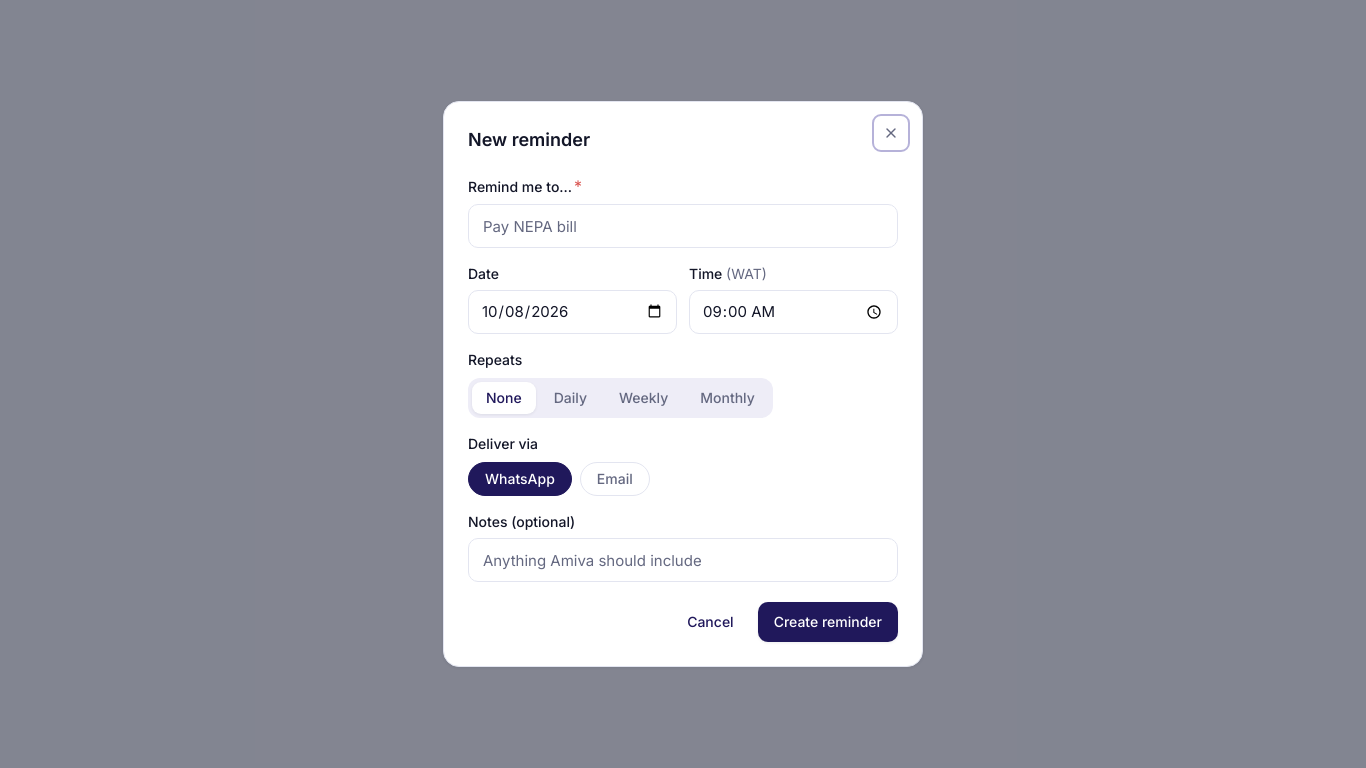
Test: ReminderModal — create › requires at least one delivery channel
This screenshot has width=1366, height=768.
Type "Call Ada" into the field labelled "Remind me to…" at (683, 226), box [468,204,898,248]
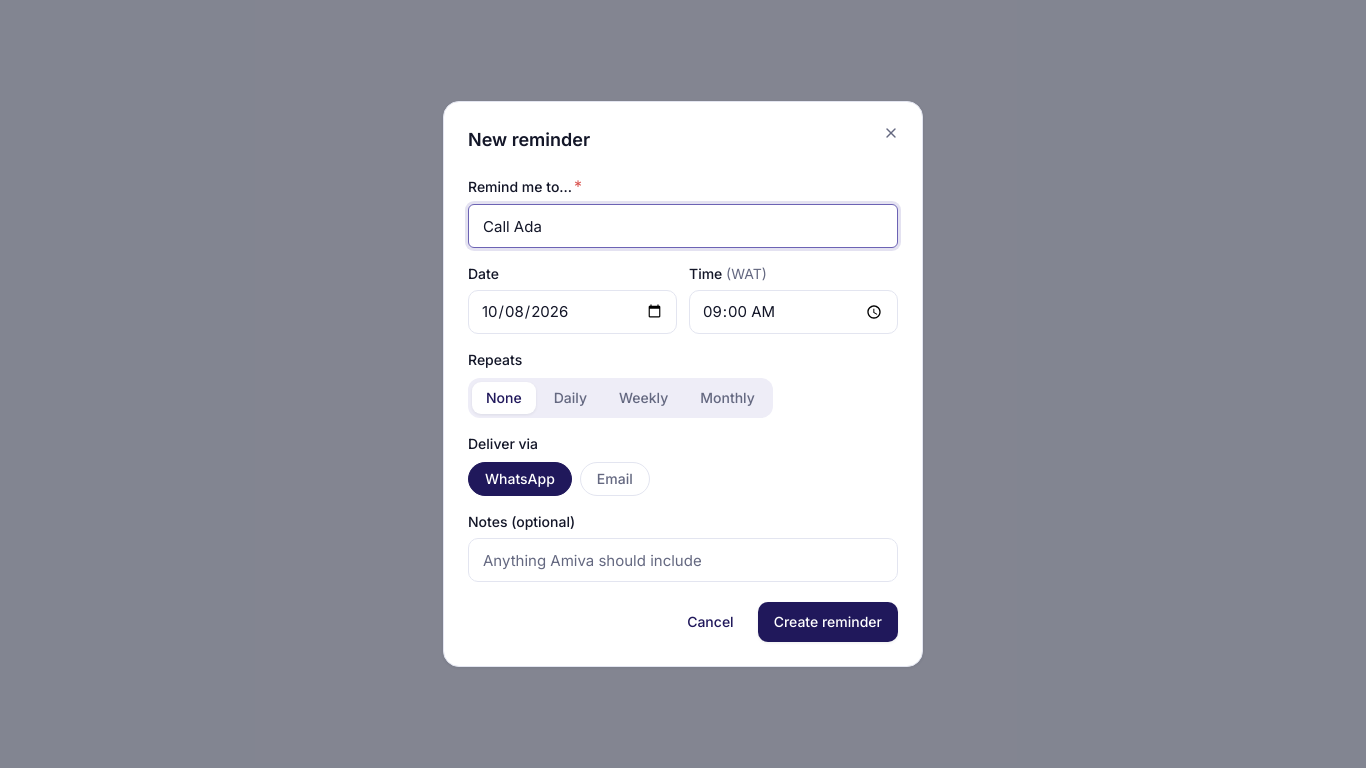
Click the button "WhatsApp" at (520, 479), box [468,462,572,496]
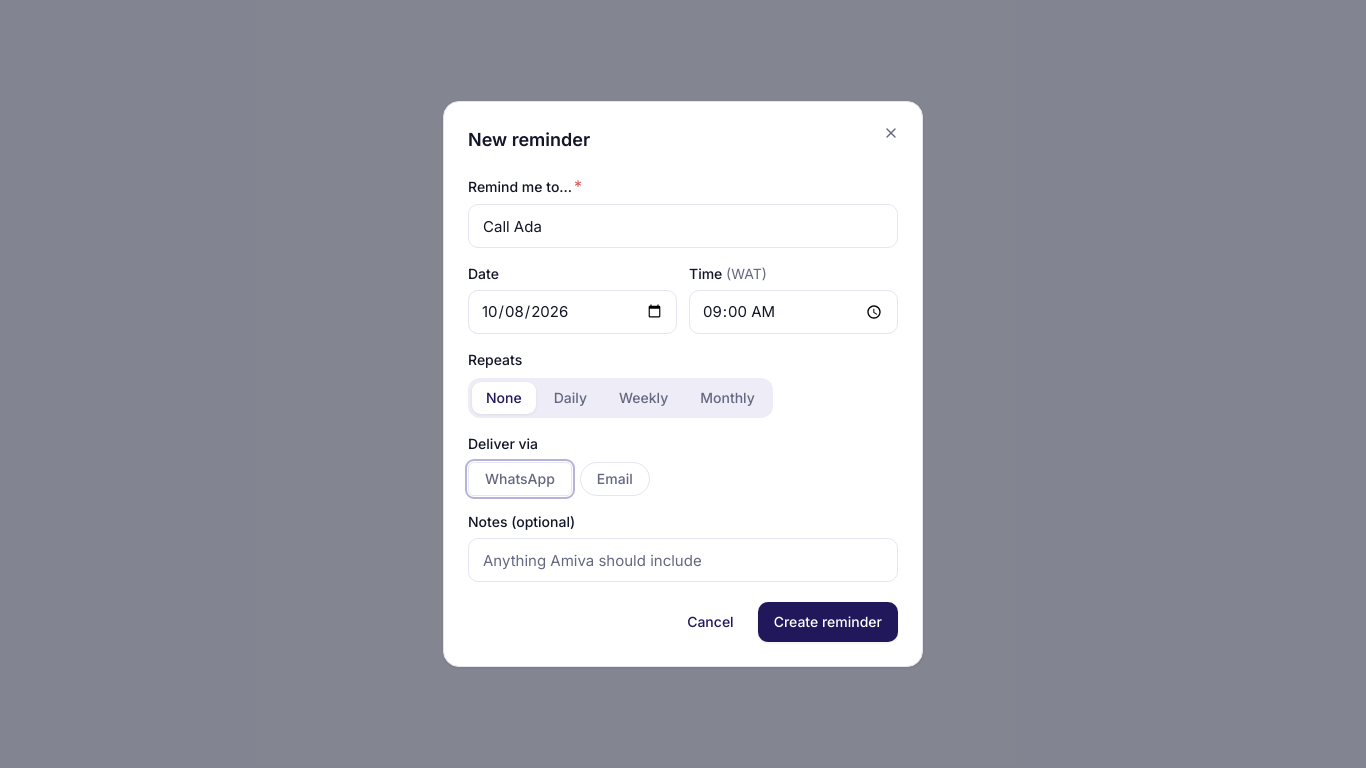
Click the button "Create reminder" at (828, 622), box [758,602,898,642]
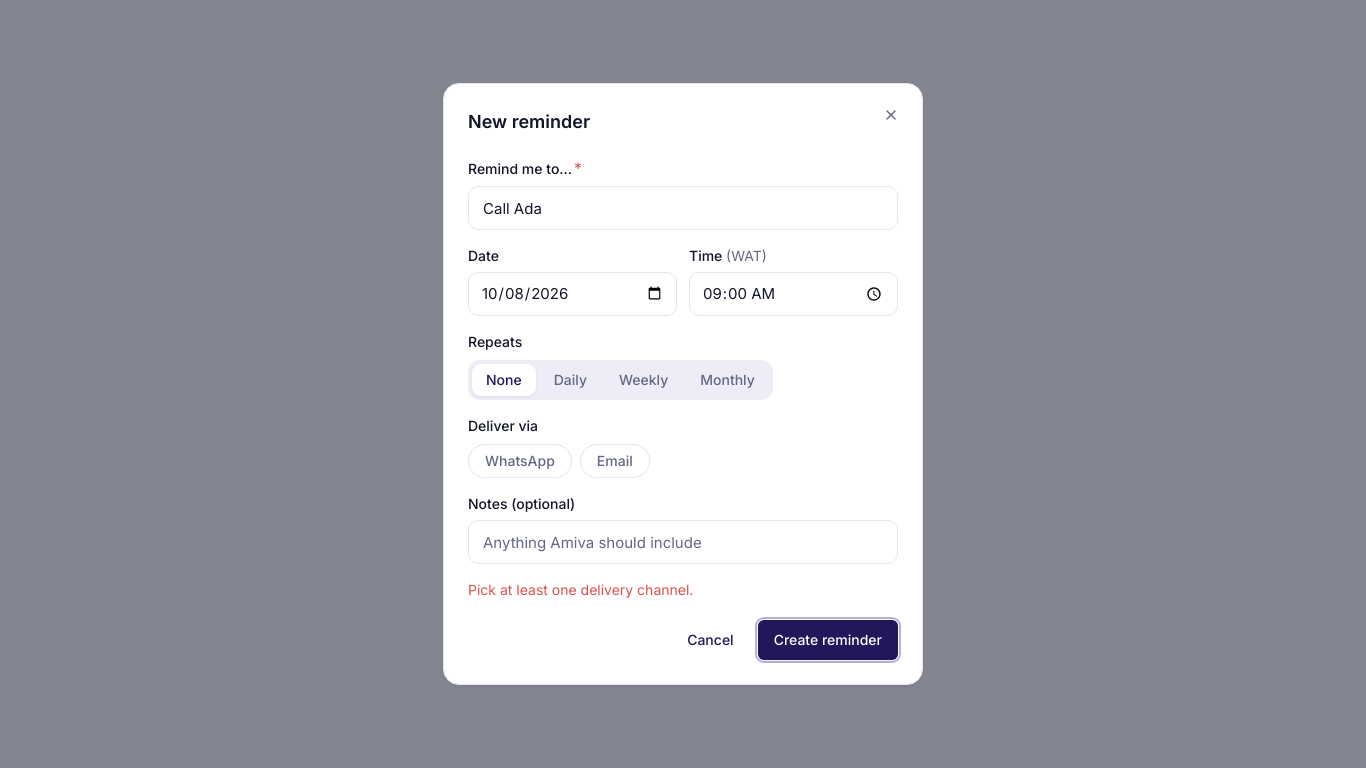
Check: the message shows "delivery channel", box [468,581,693,598]
